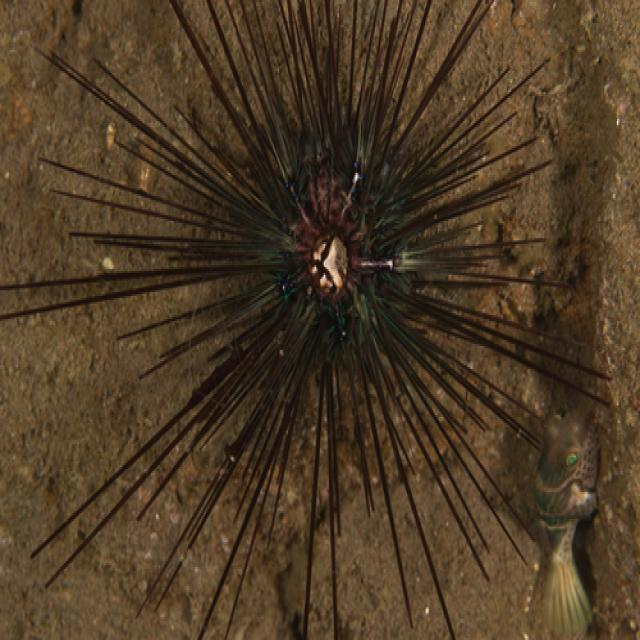Urchin: (53, 23, 590, 594)
